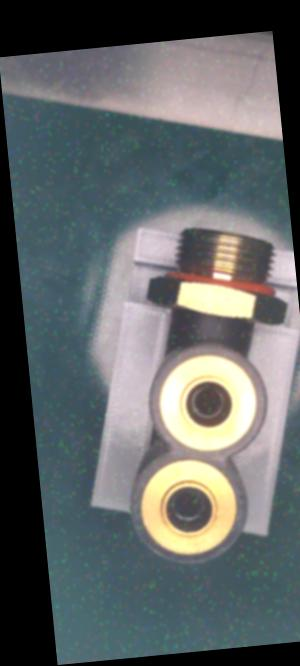craze: (207, 305, 225, 330)
